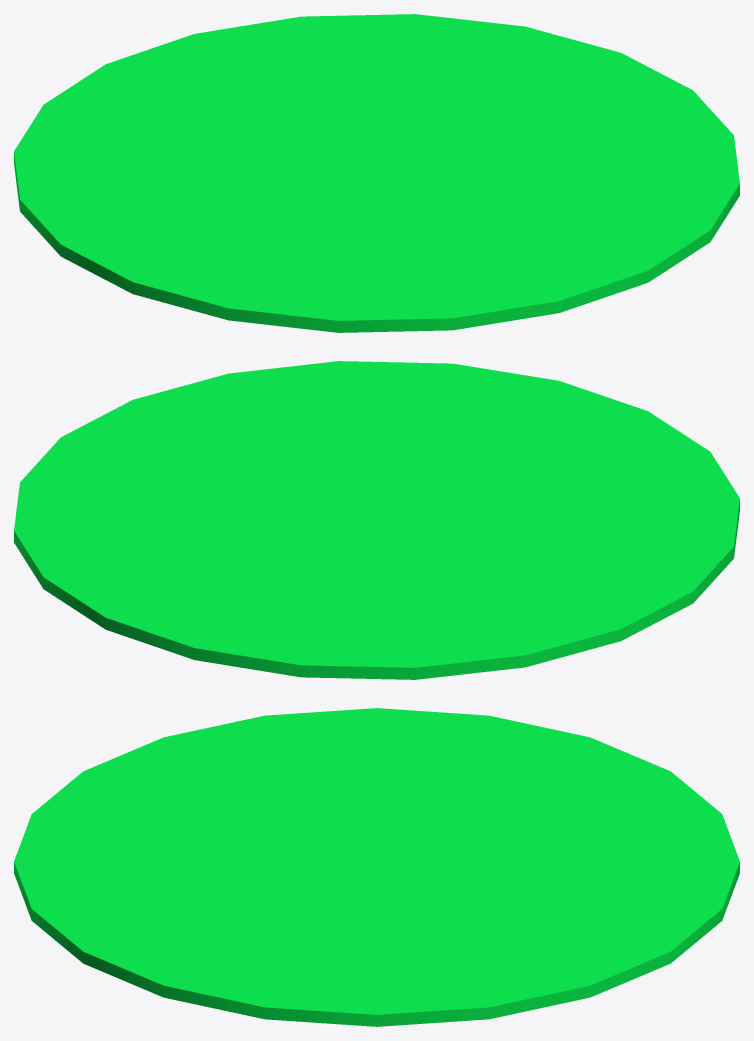
File: floor stage.fbx
The picture shows the model from 3 angles, top to bottom: view 1: azimuth 30°, elevation 25°; view 2: azimuth 150°, elevation 25°; view 3: azimuth 270°, elevation 25°; orthographic projection.
Visible parts, largest first — view 1: Cylinder; view 2: Cylinder; view 3: Cylinder.
Boxes of the visible parts, box(x1,y1,x2,y2) form: Cylinder: box(14, 14, 739, 332); Cylinder: box(14, 361, 739, 679); Cylinder: box(14, 708, 739, 1026).
Bounding box in the file's own units: 11000 × 200 × 11000.
